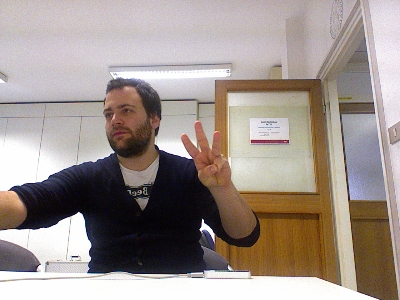三分: (179, 119, 231, 188)
